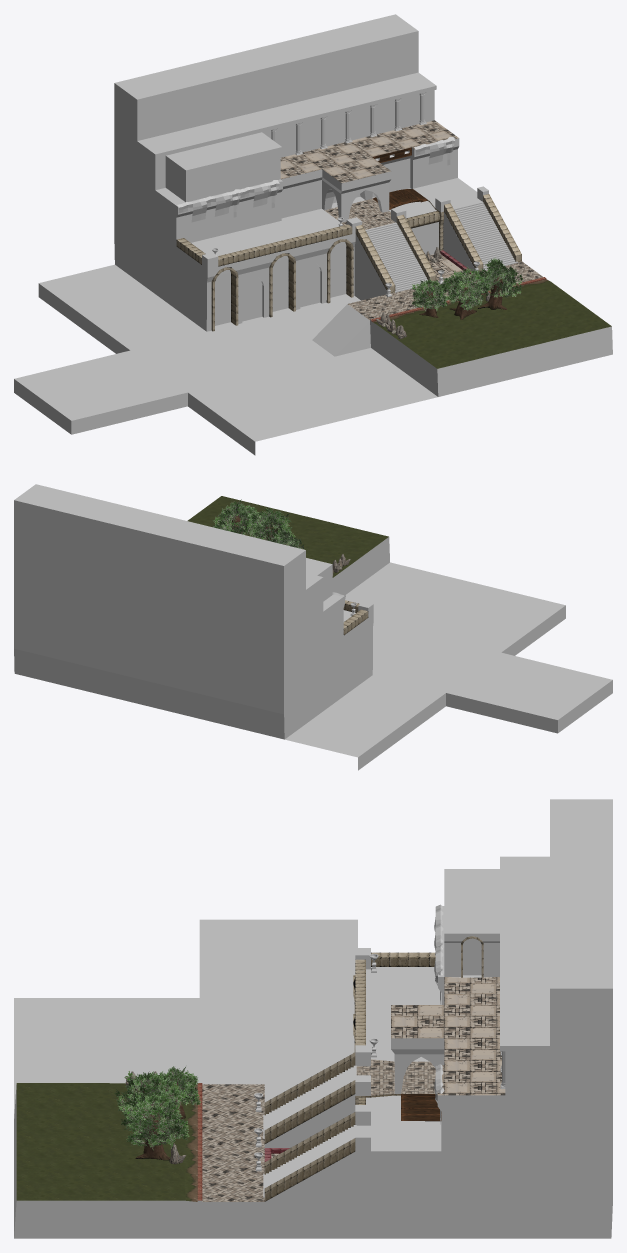
File: EppDara_GardenTemple.fbx
The picture shows the model from 3 angles, top to bottom: view 1: azimuth 30°, elevation 25°; view 2: azimuth 150°, elevation 25°; view 3: azimuth 270°, elevation 25°; orthographic projection. The views are drawn at different scales.
Parts seen in each view (by area): view 1: Cube, Cube.013, Cube.014, Cylinder.002, Cylinder, Cylinder.001, Cylinder.003, Cube.032, Cube.035, Cube.033; view 2: Cube, Cylinder.002, Cylinder; view 3: Cube, Cylinder, Cylinder.002, Cube.013, Cube.014, Cylinder.003.
Part boxes in pixels (left/top/right/bottom): Cube: left=14, top=14, right=612, bottom=455; Cube.013: left=365, top=222, right=427, bottom=292; Cube.014: left=453, top=201, right=517, bottom=270; Cylinder.002: left=440, top=266, right=490, bottom=319; Cylinder: left=473, top=257, right=523, bottom=309; Cylinder.001: left=271, top=92, right=426, bottom=155; Cylinder.003: left=411, top=279, right=447, bottom=317; Cube.032: left=239, top=180, right=279, bottom=208; Cube.035: left=414, top=137, right=455, bottom=165; Cube.033: left=200, top=189, right=241, bottom=217; Cube: left=14, top=484, right=612, bottom=770; Cylinder.002: left=245, top=507, right=291, bottom=541; Cylinder: left=213, top=499, right=262, bottom=534; Cube: left=14, top=799, right=612, bottom=1238; Cylinder: left=121, top=1092, right=189, bottom=1160; Cylinder.002: left=114, top=1071, right=188, bottom=1130; Cube.013: left=263, top=1065, right=356, bottom=1138; Cube.014: left=263, top=1125, right=356, bottom=1197; Cylinder.003: left=162, top=1066, right=200, bottom=1124.
Size of the model in its own units: 2365 by 930 by 1876.
